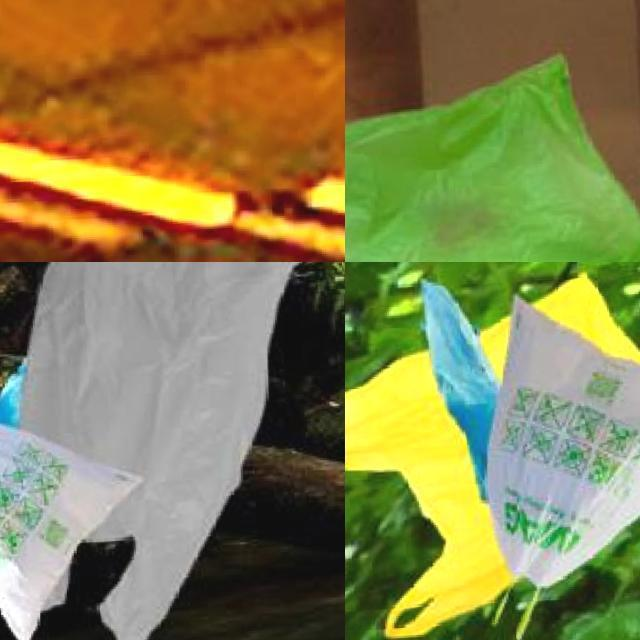waste: (22, 262, 312, 640), (345, 274, 640, 638), (345, 48, 640, 262), (479, 289, 640, 584), (0, 412, 140, 627)
